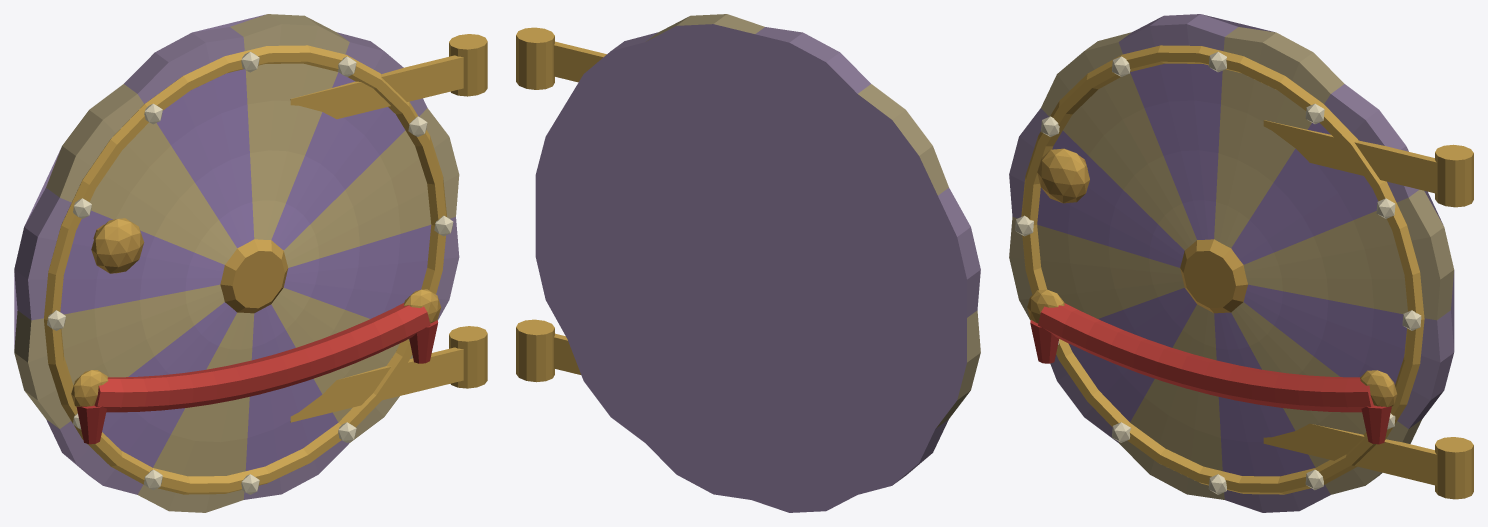
Rendered from lock_stopper_carousel.fbx.
3 renders of one model, left to right at view 1: azimuth 30°, elevation 25°; view 2: azimuth 150°, elevation 25°; view 3: azimuth 330°, elevation 25°, orthographic.
Visible parts, largest first — view 1: lock_stopper_carousel; view 2: lock_stopper_carousel; view 3: lock_stopper_carousel.
Part boxes in pixels (x1,y1,x2,y2): lock_stopper_carousel: (14, 14, 487, 512); lock_stopper_carousel: (516, 14, 980, 512); lock_stopper_carousel: (1009, 14, 1473, 512).
Bounding box in the file's own units: 9.89 × 9.66 × 1.51.
